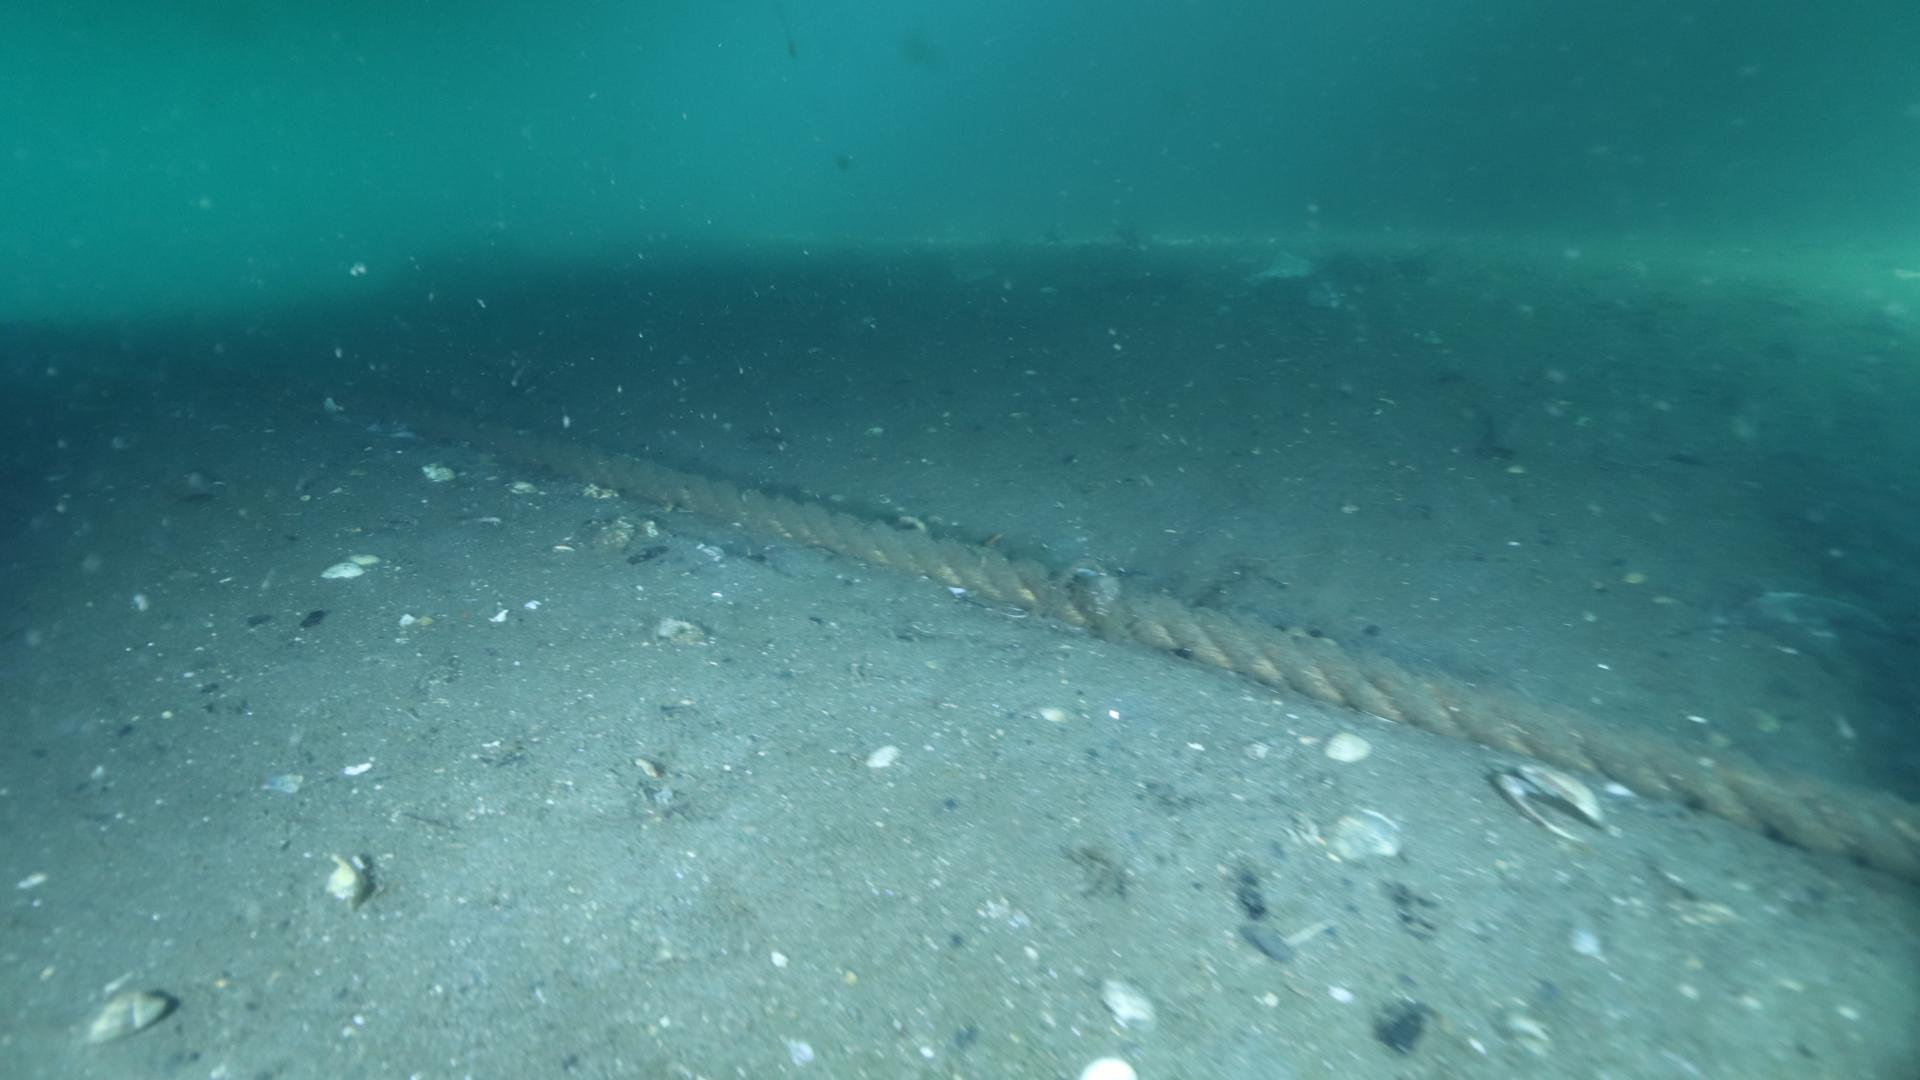rope: (363, 392, 1920, 893)
